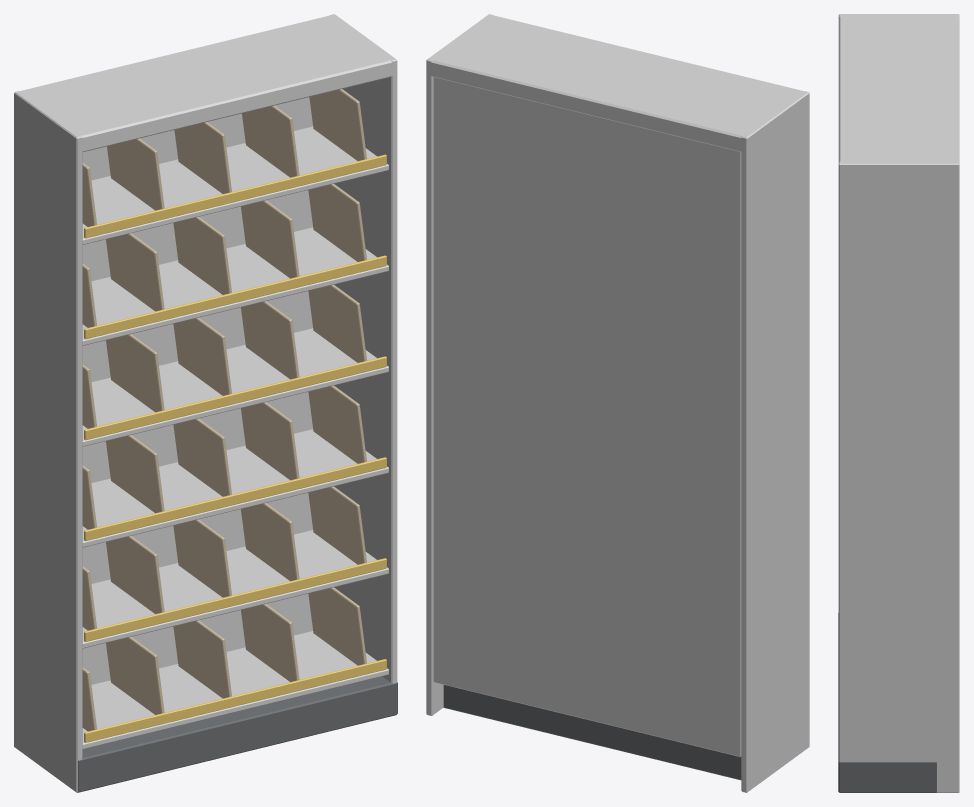
Rendered from clinic-and-veterinary-practice-records-wall-unit-4e7bd8a0__16725.glb.
The picture shows the model from 3 angles, left to right: view 1: azimuth 30°, elevation 25°; view 2: azimuth 150°, elevation 25°; view 3: azimuth 270°, elevation 25°; orthographic projection. The views are drawn at different scales.
Visible parts, largest first — view 1: records-wall-unit; view 2: records-wall-unit; view 3: records-wall-unit.
Part boxes in pixels (bbox=[...]): records-wall-unit: bbox=[14, 14, 397, 792]; records-wall-unit: bbox=[426, 14, 809, 792]; records-wall-unit: bbox=[838, 14, 959, 792].
Size of the model in its own units: 1 by 1.95 by 0.3411.
